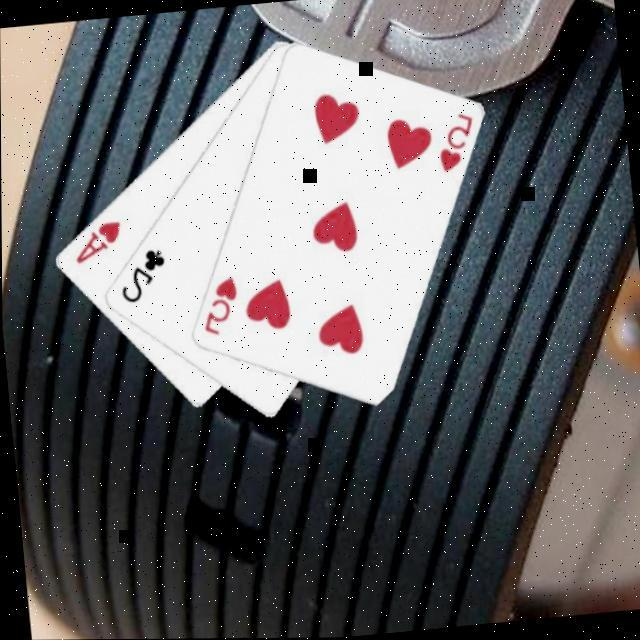2C: (112, 242, 169, 305)
5H: (429, 106, 478, 174), (194, 270, 242, 338)
AH: (66, 215, 125, 265)
